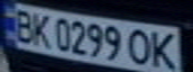0: (48, 16, 72, 52)
2: (66, 17, 87, 56)
9: (103, 23, 127, 62), (84, 20, 106, 60)
B: (6, 7, 39, 44)
K: (148, 28, 181, 71), (27, 11, 54, 47)
O: (124, 26, 154, 66)
